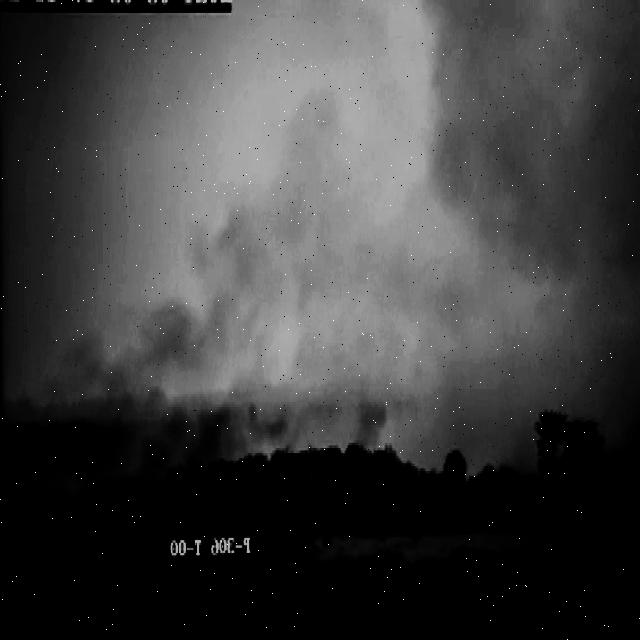asap: (361, 1, 640, 521), (213, 63, 376, 557), (1, 344, 197, 544)
